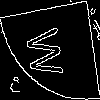W: (25, 25, 73, 79)
